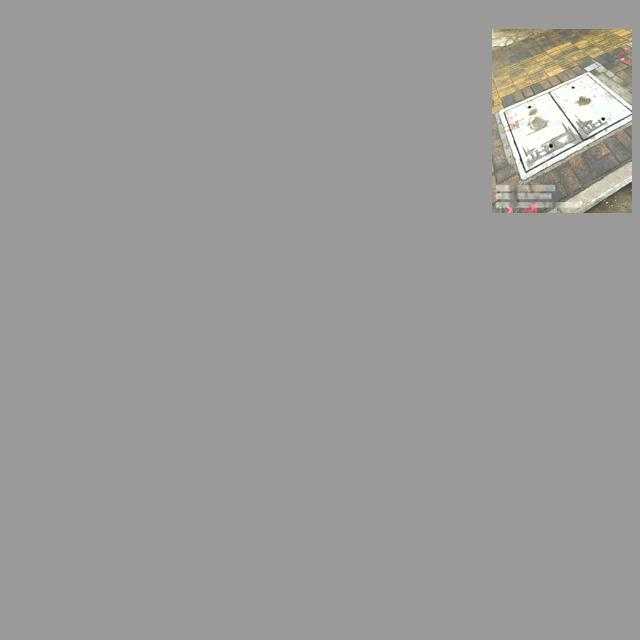good: (498, 72, 632, 179)
